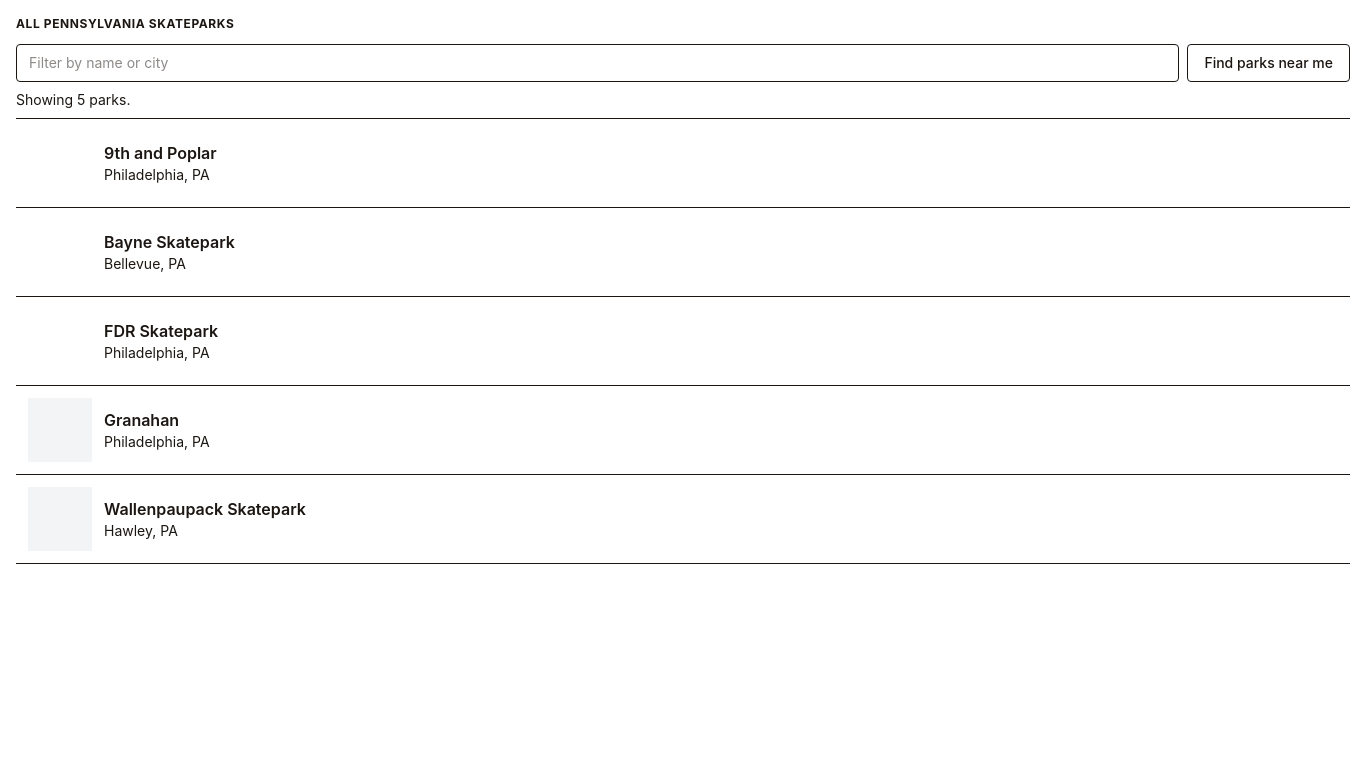
Test: HomeParkList › filter input › shows empty state when zero match
Type "xyzzy" into the search field with placeholder "Filter by name or city" at (598, 63), box [16,44,1179,82]
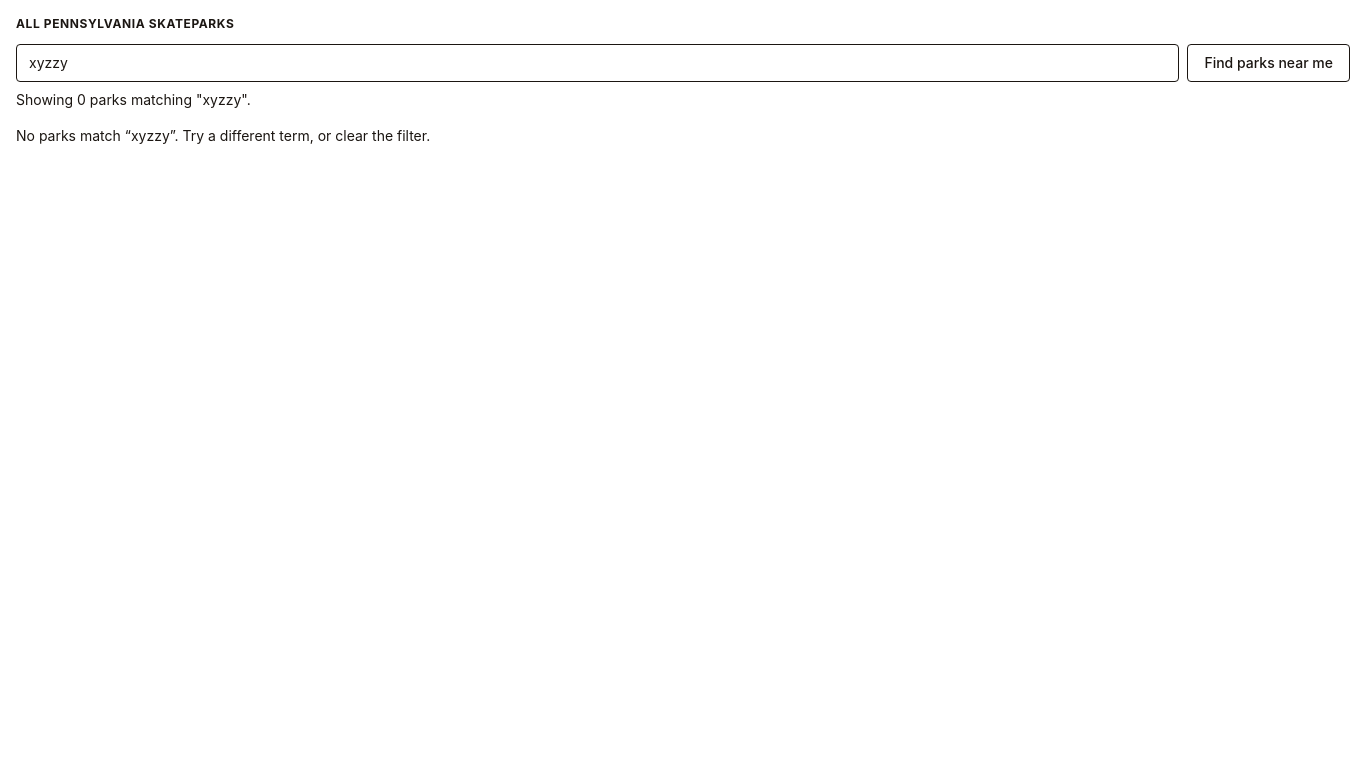
Check: the text "No parks match" is shown, box [16,127,131,144]
